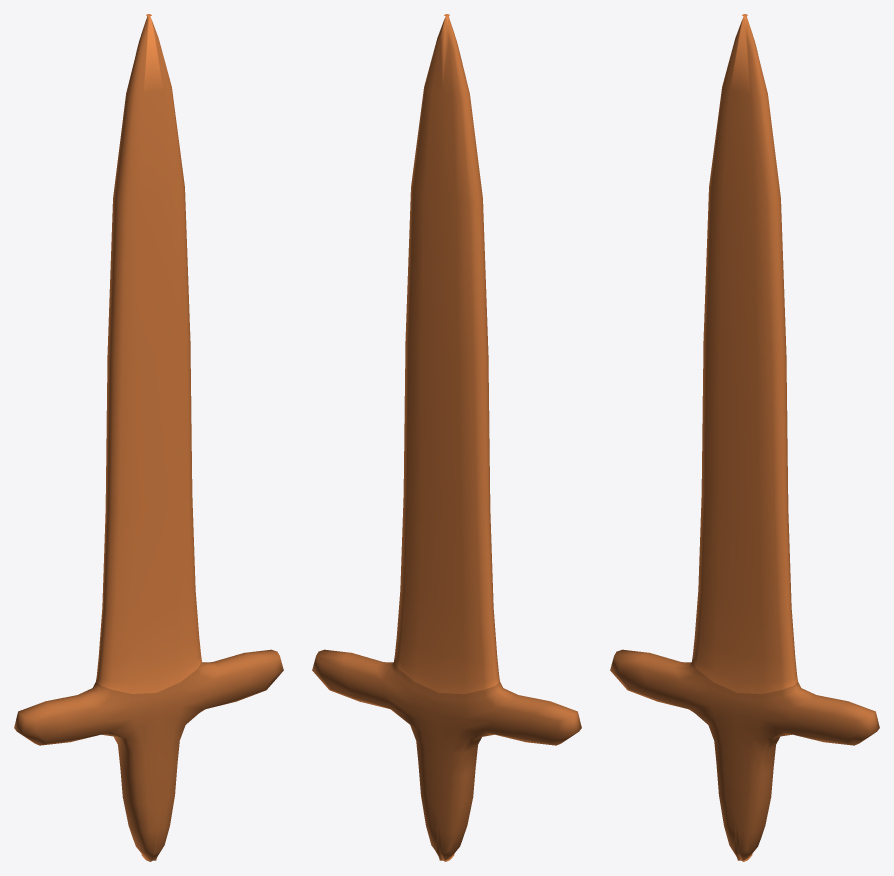
The model's file is Sword.fbx.
The picture shows the model from 3 angles, left to right: view 1: azimuth 30°, elevation 25°; view 2: azimuth 150°, elevation 25°; view 3: azimuth 330°, elevation 25°; orthographic projection.
Parts seen in each view (by area): view 1: Sword; view 2: Sword; view 3: Sword.
Boxes of the visible parts, x1=… form: Sword: x1=14, y1=14, x2=283, y2=861; Sword: x1=312, y1=14, x2=581, y2=861; Sword: x1=610, y1=14, x2=879, y2=861.
Size of the model in its own units: 168 by 511 by 19.72.
